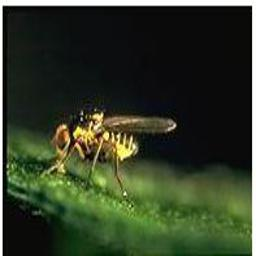liriomyza: (39, 105, 176, 199)
